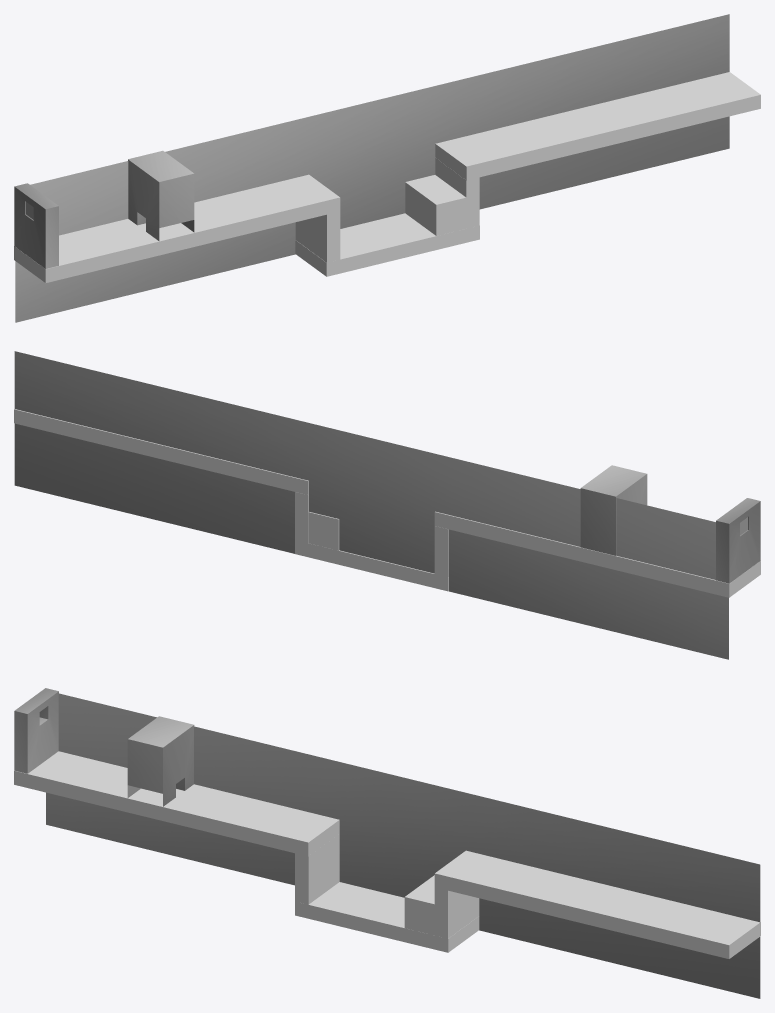
The model's file is Map.fbx.
The picture shows the model from 3 angles, top to bottom: view 1: azimuth 30°, elevation 25°; view 2: azimuth 150°, elevation 25°; view 3: azimuth 330°, elevation 25°; orthographic projection.
Parts seen in each view (by area): view 1: back, Floor.003, Floor.001, Floor.004, Wall.001, Wall, Floor.002, Cube.006, Cube.007; view 2: back, Floor.001, Floor.003, Wall.001, Wall, Floor.004, Floor.002, Cube.006, Cube.007; view 3: back, Floor.003, Floor.001, Floor.004, Wall.001, Wall, Cube.006, Cube.007, Floor.002.
Part boxes in pixels (left/top/right/bottom): back: left=15, top=14, right=729, bottom=322; Floor.003: left=435, top=72, right=760, bottom=180; Floor.001: left=14, top=174, right=340, bottom=282; Floor.004: left=295, top=213, right=479, bottom=276; Wall.001: left=128, top=150, right=194, bottom=240; Wall: left=14, top=183, right=58, bottom=268; Floor.002: left=405, top=175, right=466, bottom=235; Cube.006: left=295, top=211, right=340, bottom=262; Cube.007: left=435, top=158, right=479, bottom=228; back: left=14, top=351, right=728, bottom=659; Floor.001: left=434, top=511, right=760, bottom=597; Floor.003: left=14, top=409, right=308, bottom=494; Wall.001: left=580, top=465, right=647, bottom=555; Wall: left=716, top=498, right=760, bottom=583; Floor.004: left=295, top=540, right=448, bottom=591; Floor.002: left=308, top=512, right=339, bottom=550; Cube.006: left=434, top=526, right=448, bottom=577; Cube.007: left=295, top=492, right=308, bottom=543; back: left=46, top=693, right=760, bottom=998; Floor.003: left=434, top=850, right=760, bottom=958; Floor.001: left=14, top=751, right=339, bottom=856; Floor.004: left=295, top=882, right=479, bottom=952; Wall.001: left=127, top=716, right=194, bottom=806; Wall: left=14, top=688, right=58, bottom=773; Cube.006: left=295, top=834, right=339, bottom=904; Cube.007: left=434, top=887, right=479, bottom=938; Floor.002: left=404, top=875, right=434, bottom=935.
Size of the model in its own units: 10702 by 1949 by 825.
